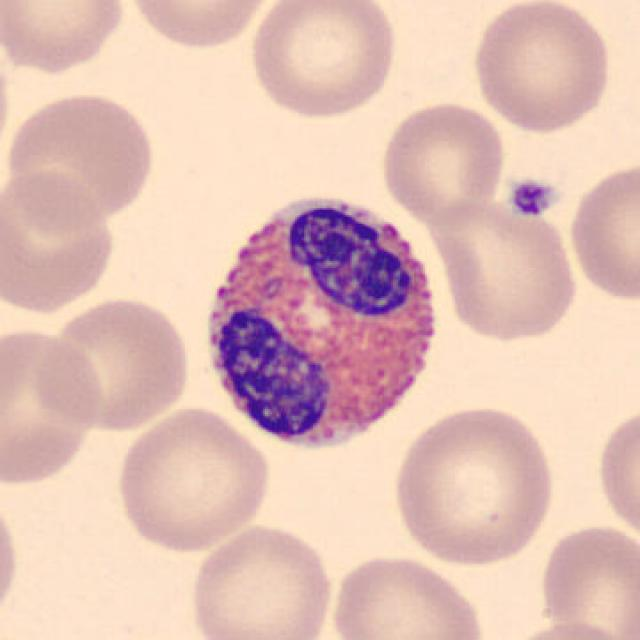Eosinophil: (190, 175, 455, 467)
Platelets: (505, 177, 562, 220)
RBC: (388, 400, 560, 568), (110, 404, 274, 555), (425, 190, 581, 344), (2, 86, 160, 231), (39, 292, 194, 433), (468, 0, 615, 136), (245, 0, 400, 122), (185, 520, 338, 640), (0, 166, 119, 319), (0, 322, 108, 490), (377, 97, 508, 226), (325, 552, 491, 640), (535, 518, 638, 640), (566, 157, 638, 303), (0, 0, 130, 76), (121, 0, 281, 51), (594, 398, 638, 548), (0, 482, 23, 632), (494, 617, 636, 640), (0, 28, 14, 180)
